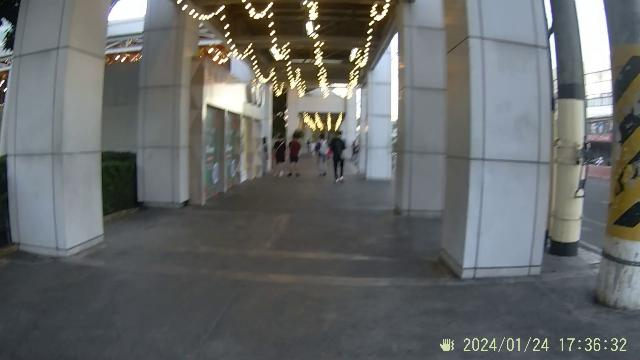utility_post: (548, 0, 640, 326)
